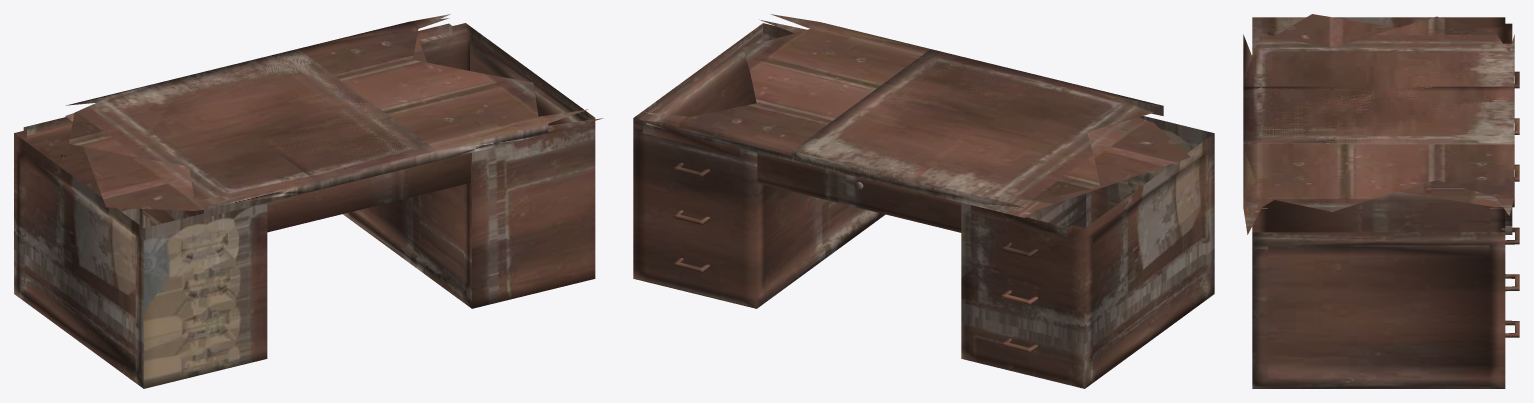
The model's file is Desk.glb.
3 views of the same model, side by side, from view 1: azimuth 30°, elevation 25°; view 2: azimuth 150°, elevation 25°; view 3: azimuth 270°, elevation 25° (orthographic). The views are drawn at different scales.
Parts seen in each view (by area): view 1: Desk; view 2: Desk; view 3: Desk.
Boxes of the visible parts, x1,y1,x2,y2 form: Desk: (14,14,602,388); Desk: (633,14,1214,388); Desk: (1243,14,1519,388).
Size of the model in its own units: 21.61 by 7.62 by 11.4.
Materials: 1 (1 with a texture image).
